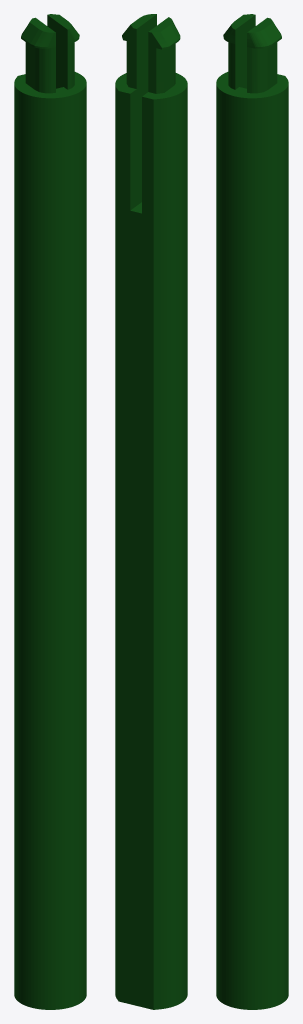
The model's file is stem_3A_0.glb.
3 views of the same model, side by side, from view 1: azimuth 30°, elevation 25°; view 2: azimuth 150°, elevation 25°; view 3: azimuth 330°, elevation 25° (orthographic).
Visible parts, largest first — view 1: stem_3A_0; view 2: stem_3A_0; view 3: stem_3A_0.
Boxes of the visible parts, <box> form: stem_3A_0: <box>14,14,86,1009</box>; stem_3A_0: <box>115,14,187,1009</box>; stem_3A_0: <box>216,14,288,1009</box>.
Bounding box in the file's own units: 0.0072 × 0.1066 × 0.00666.
